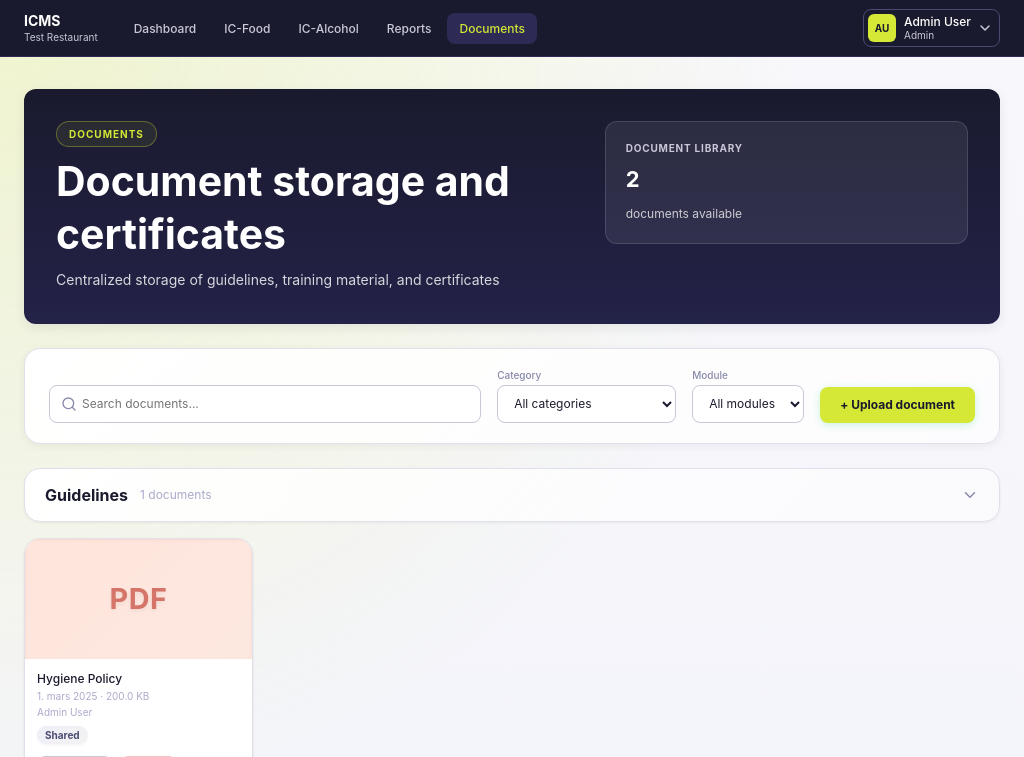
Documents Page › as admin › filters documents by category dropdown
Select "Training material" in the dropdown with id "filter-cat" at (587, 404), box [497,385,676,423]
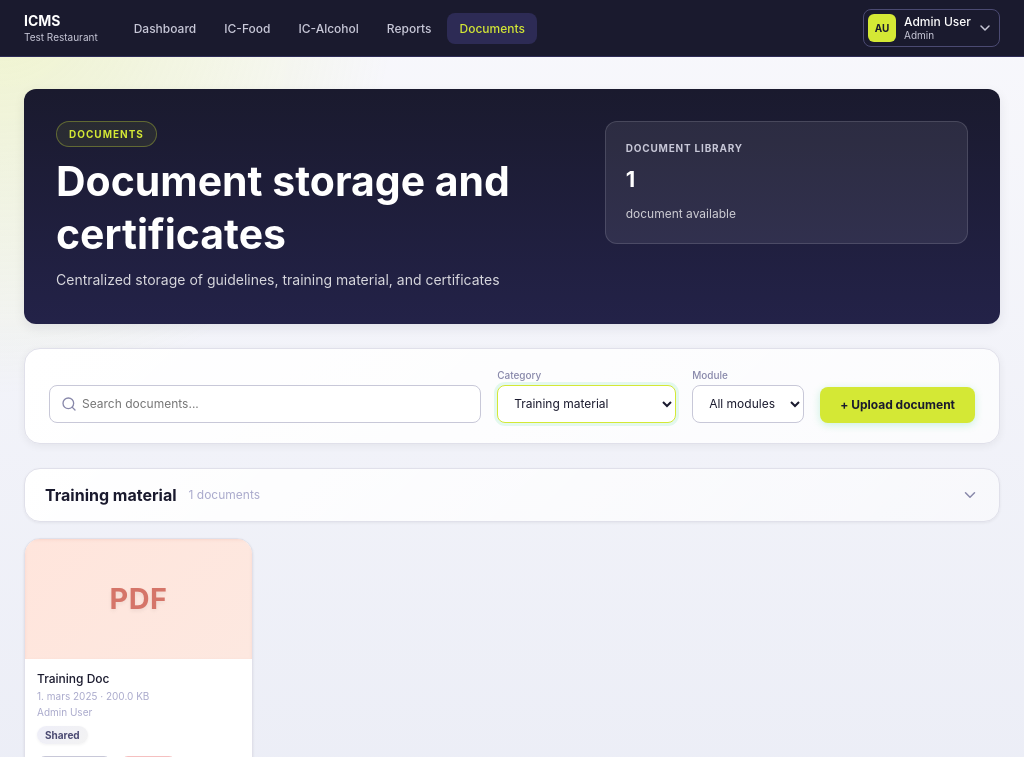
Expected: the text "Training Doc" is shown, [37,671,110,686]
Expected: the text "Hygiene Policy" is gone
